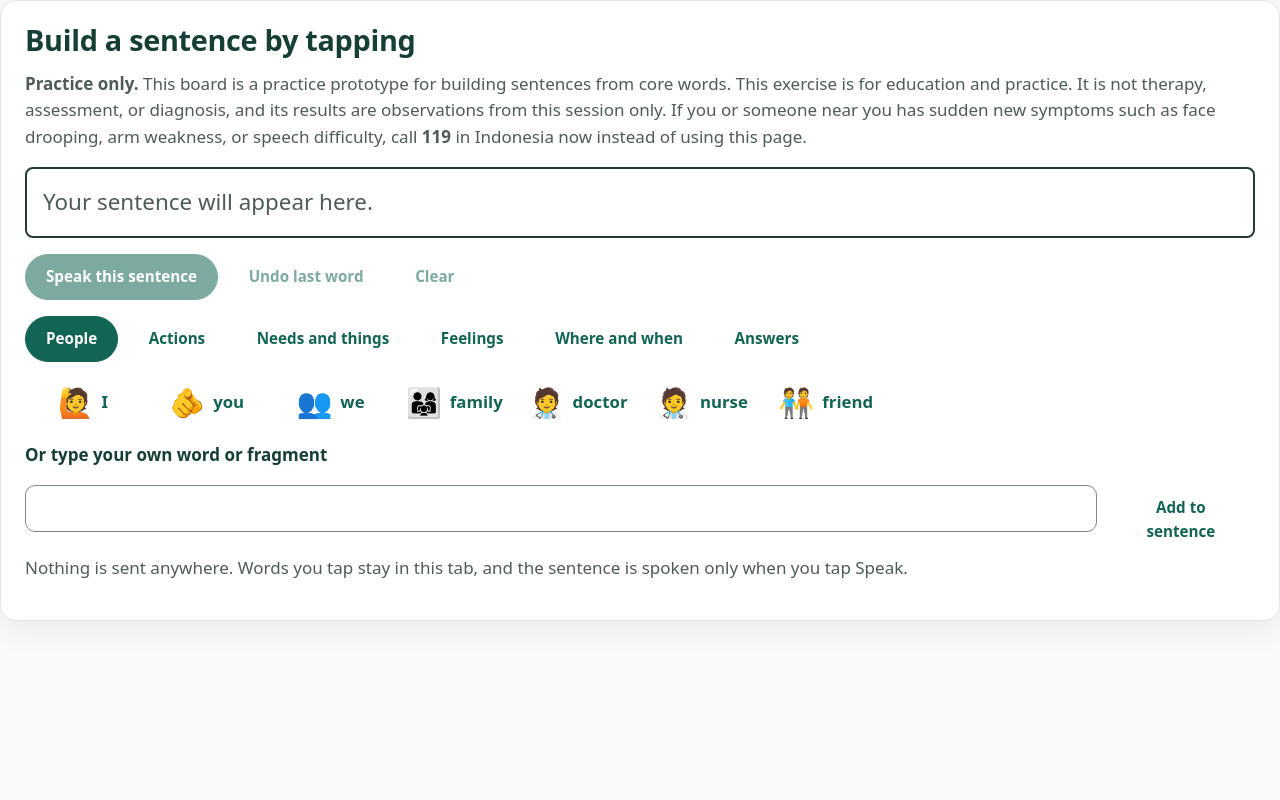
Test: AphasiaCommunicationMode › offers local pattern suggestions and applies one on tap
Click the button "🙋 I" at (83, 402), box [25,362,141,442]
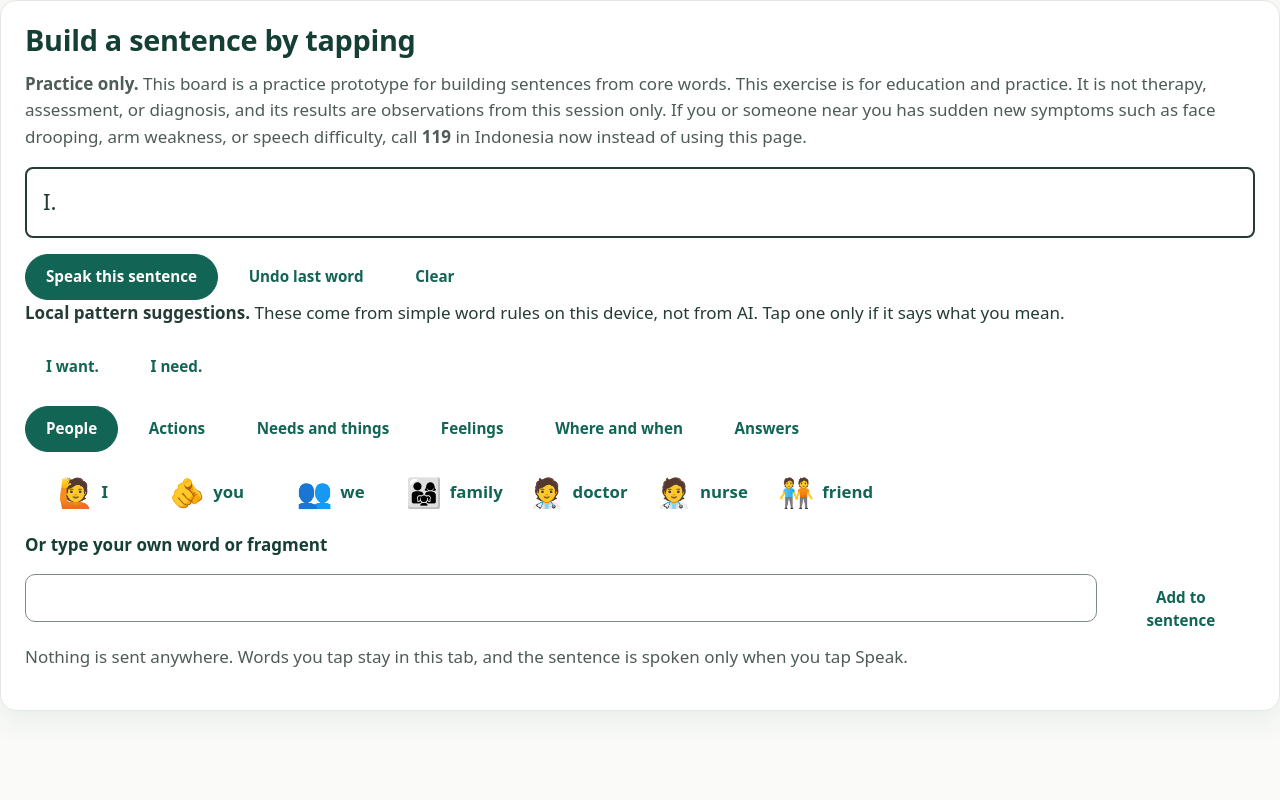
Click the tab "Needs and things" at (323, 429), box [236,406,410,452]
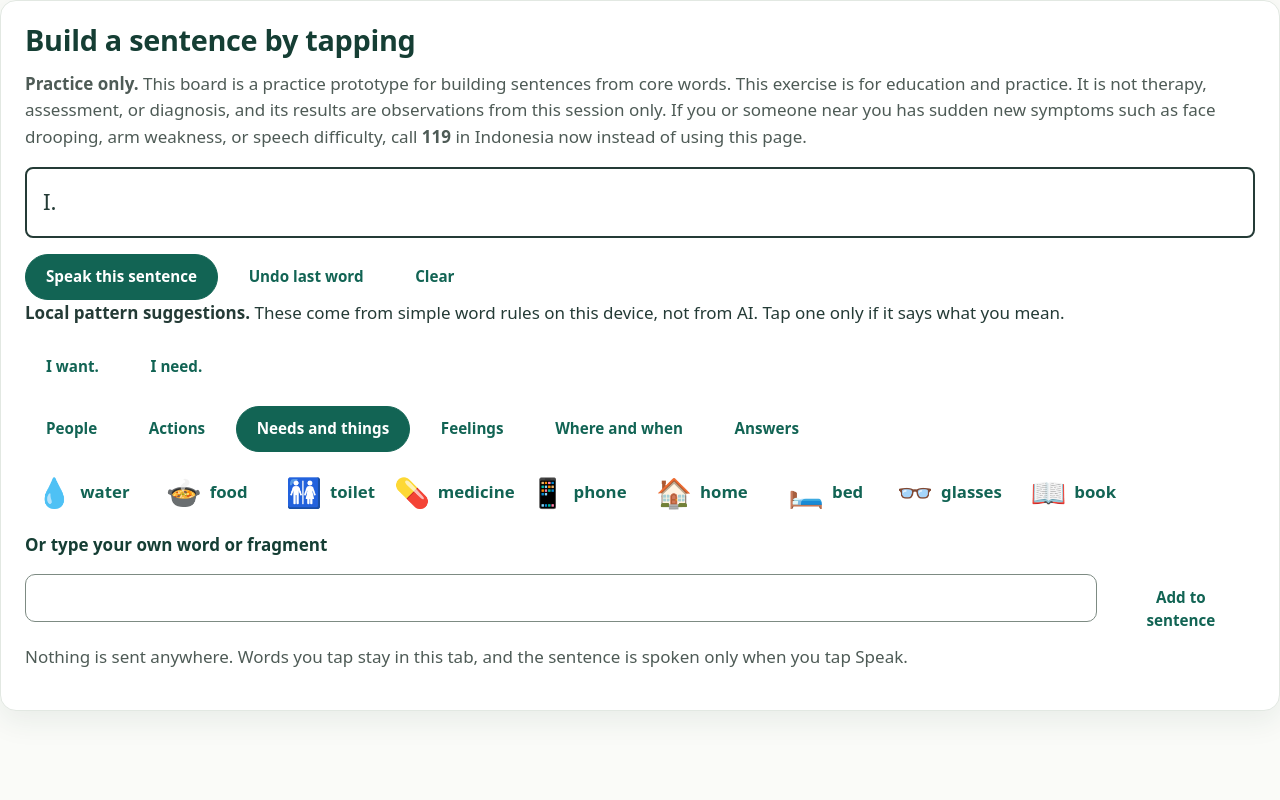
Click the button "💧 water" at (83, 492), box [25,452,141,532]
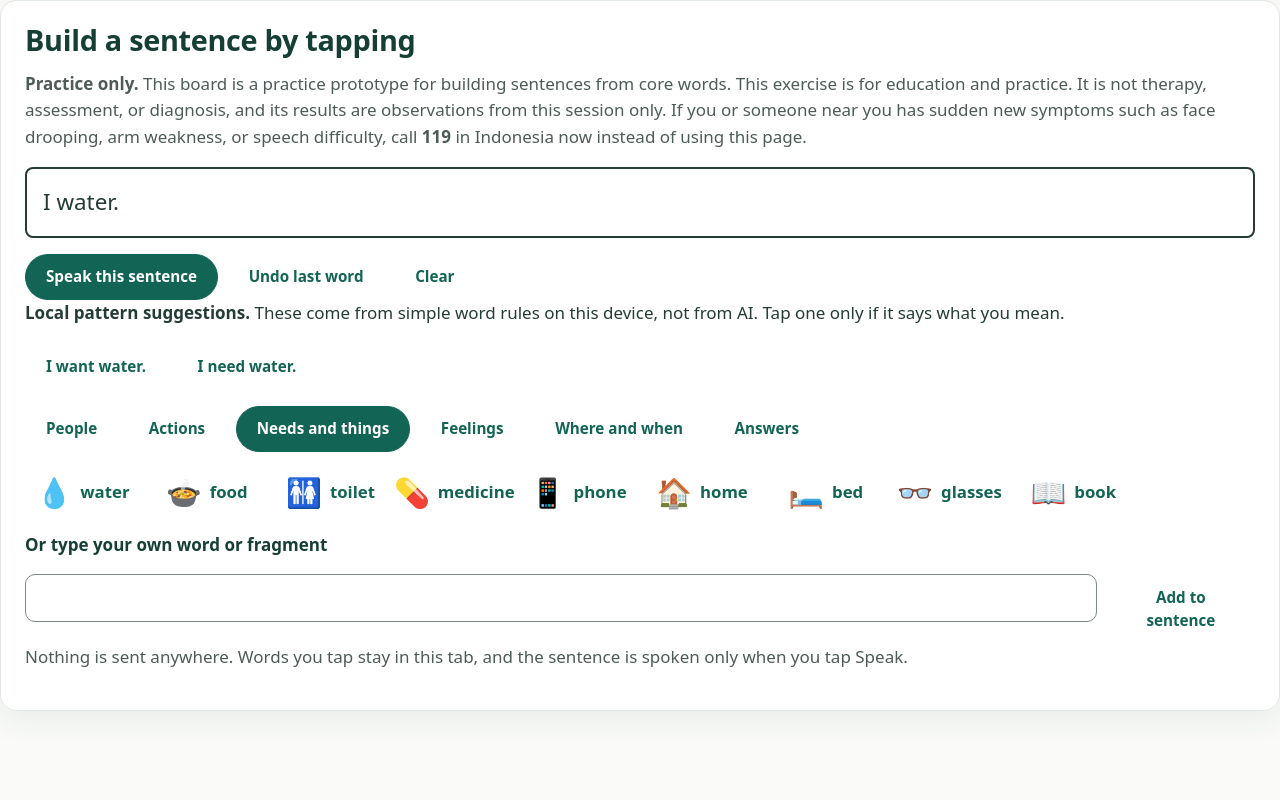
Now the text "I water." is shown, box [25,167,1255,238]
Click the button "I need water." at (247, 366), box [177,343,317,390]
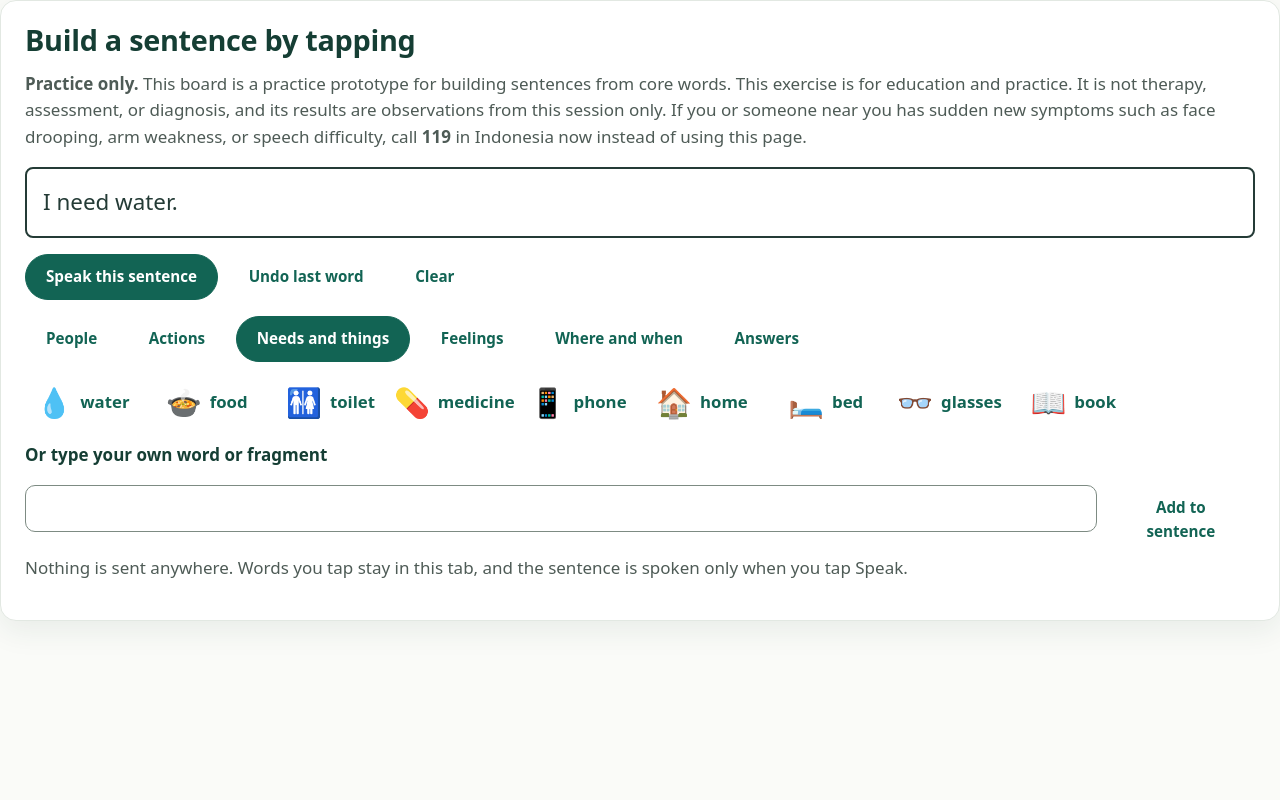
Now the text "I need water." is shown, box [25,167,1255,238]
